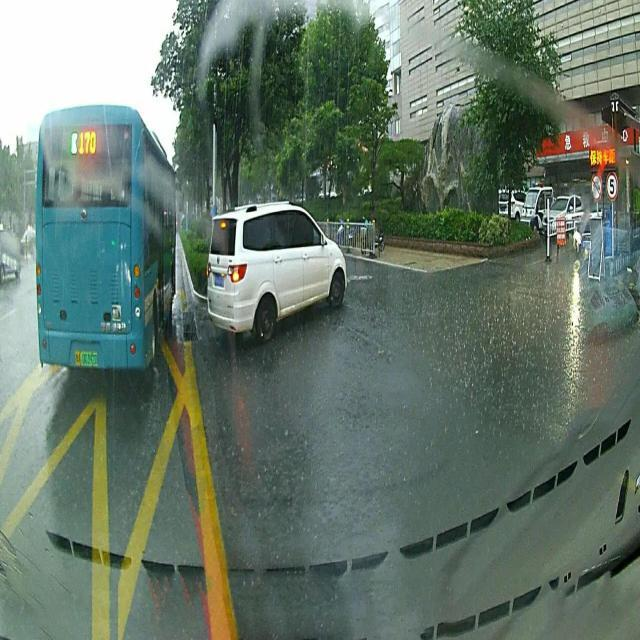car: (206, 199, 345, 342), (0, 220, 23, 280)
